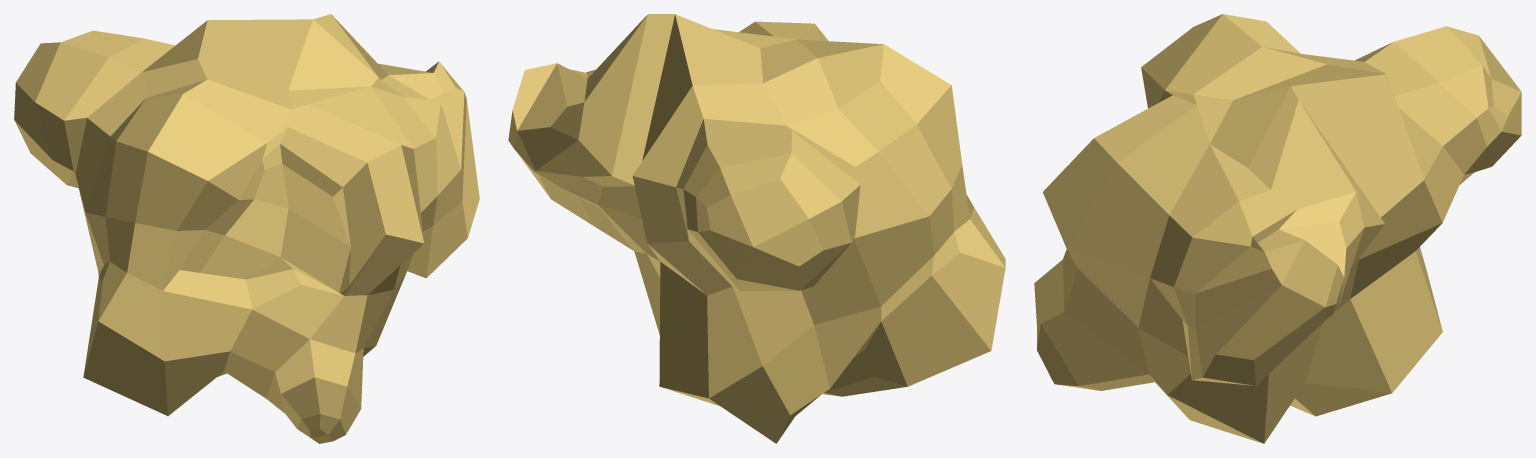
The model's file is popcorn3.fbx.
3 renders of one model, left to right at view 1: azimuth 30°, elevation 25°; view 2: azimuth 150°, elevation 25°; view 3: azimuth 270°, elevation 25°, orthographic. The views are drawn at different scales.
Visible parts, largest first — view 1: POPCORN.002; view 2: POPCORN.002; view 3: POPCORN.002.
Part boxes in pixels (x1,y1,x2,y2): POPCORN.002: [14, 14, 479, 443]; POPCORN.002: [508, 14, 1005, 443]; POPCORN.002: [1034, 14, 1521, 443].
Size of the model in its own units: 64.51 by 51.53 by 61.83.
